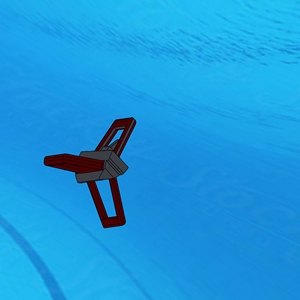submarine: (45, 111, 151, 231)
